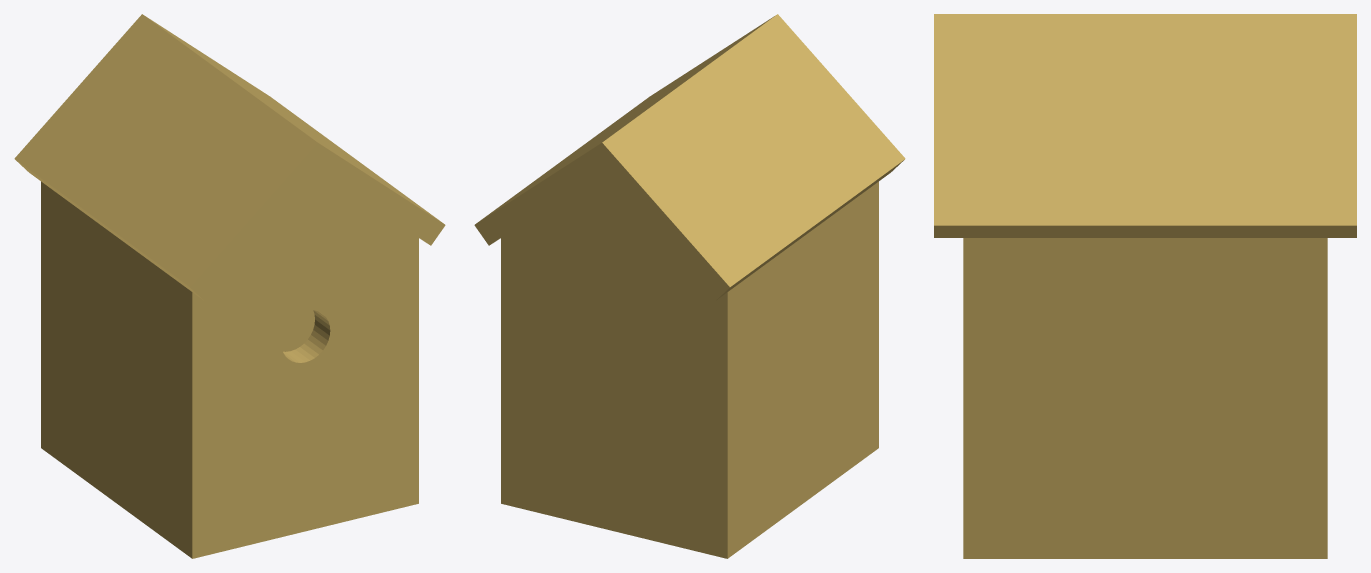
Rendered from SM_BirdHouse.fbx.
3 views of the same model, side by side, from view 1: azimuth 30°, elevation 25°; view 2: azimuth 150°, elevation 25°; view 3: azimuth 270°, elevation 25° (orthographic). The views are drawn at different scales.
Visible parts, largest first — view 1: SM_BirdHouse; view 2: SM_BirdHouse; view 3: SM_BirdHouse.
Part boxes in pixels (x1,y1,x2,y2): SM_BirdHouse: (14,14,445,558); SM_BirdHouse: (474,14,905,558); SM_BirdHouse: (934,14,1356,558).
Size of the model in its own units: 21.47 by 31.89 by 25.54.
